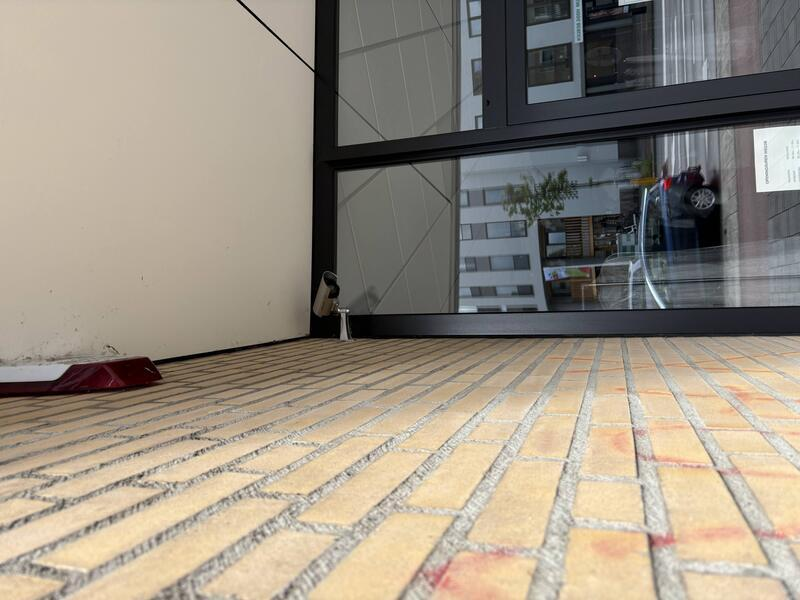bullet: (282, 305, 342, 348)
